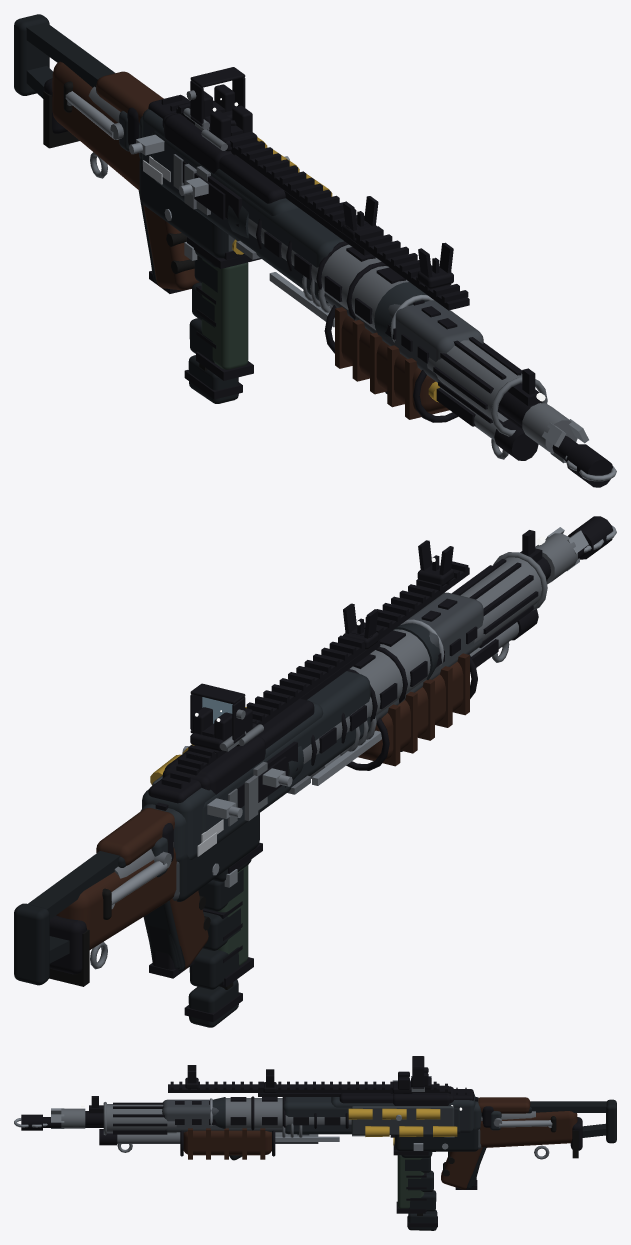
File: weapons.glb
3 views of the same model, one above another, from view 1: azimuth 30°, elevation 25°; view 2: azimuth 150°, elevation 25°; view 3: azimuth 270°, elevation 25° (orthographic). The views are drawn at different scales.
Parts seen in each view (by area): view 1: rifle_body, shotgun_body, smg_body; view 2: rifle_body, shotgun_body, smg_body, pistol_body; view 3: shotgun_body, rifle_body, smg_body.
Boxes of the visible parts, <box> form: rifle_body: <box>14,14,616,487</box>; shotgun_body: <box>43,61,588,463</box>; smg_body: <box>63,67,433,380</box>; rifle_body: <box>14,516,616,1027</box>; shotgun_body: <box>49,527,588,986</box>; smg_body: <box>97,619,444,989</box>; pistol_body: <box>148,802,194,978</box>; shotgun_body: <box>51,1069,582,1189</box>; rifle_body: <box>14,1065,616,1230</box>; smg_body: <box>210,1056,556,1215</box>.
Bounding box in the file's own units: 0.105 × 0.3055 × 0.9989.
